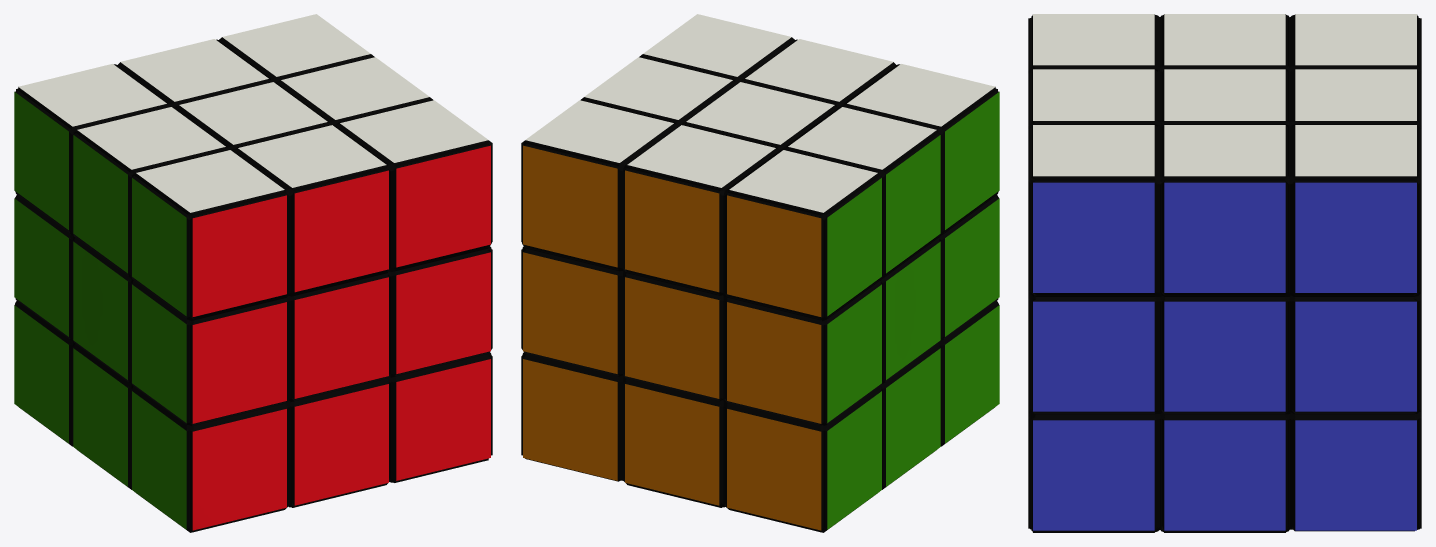
Rendered from rubix_cube.glb.
3 views of the same model, side by side, from view 1: azimuth 30°, elevation 25°; view 2: azimuth 150°, elevation 25°; view 3: azimuth 270°, elevation 25° (orthographic). The views are drawn at different scales.
Visible parts, largest first — view 1: Rubix Cube; view 2: Rubix Cube; view 3: Rubix Cube.
Boxes of the visible parts, x1=… form: Rubix Cube: x1=14, y1=14, x2=492, y2=532; Rubix Cube: x1=521, y1=14, x2=999, y2=532; Rubix Cube: x1=1028, y1=14, x2=1421, y2=532.
Bounding box in the file's own units: 2 × 2 × 2.
1 material, 1 textured.
